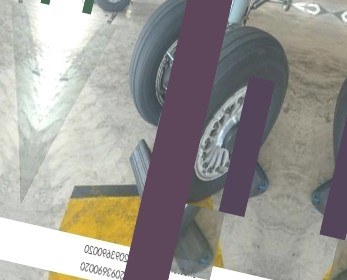chock: (110, 135, 200, 256), (144, 198, 225, 280), (218, 141, 277, 202), (308, 162, 347, 223), (80, 0, 98, 8)
wheel: (149, 16, 299, 216), (119, 0, 225, 135)
